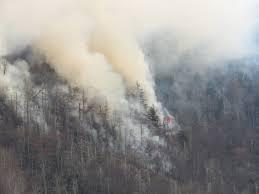yanwu: (0, 0, 178, 149)
